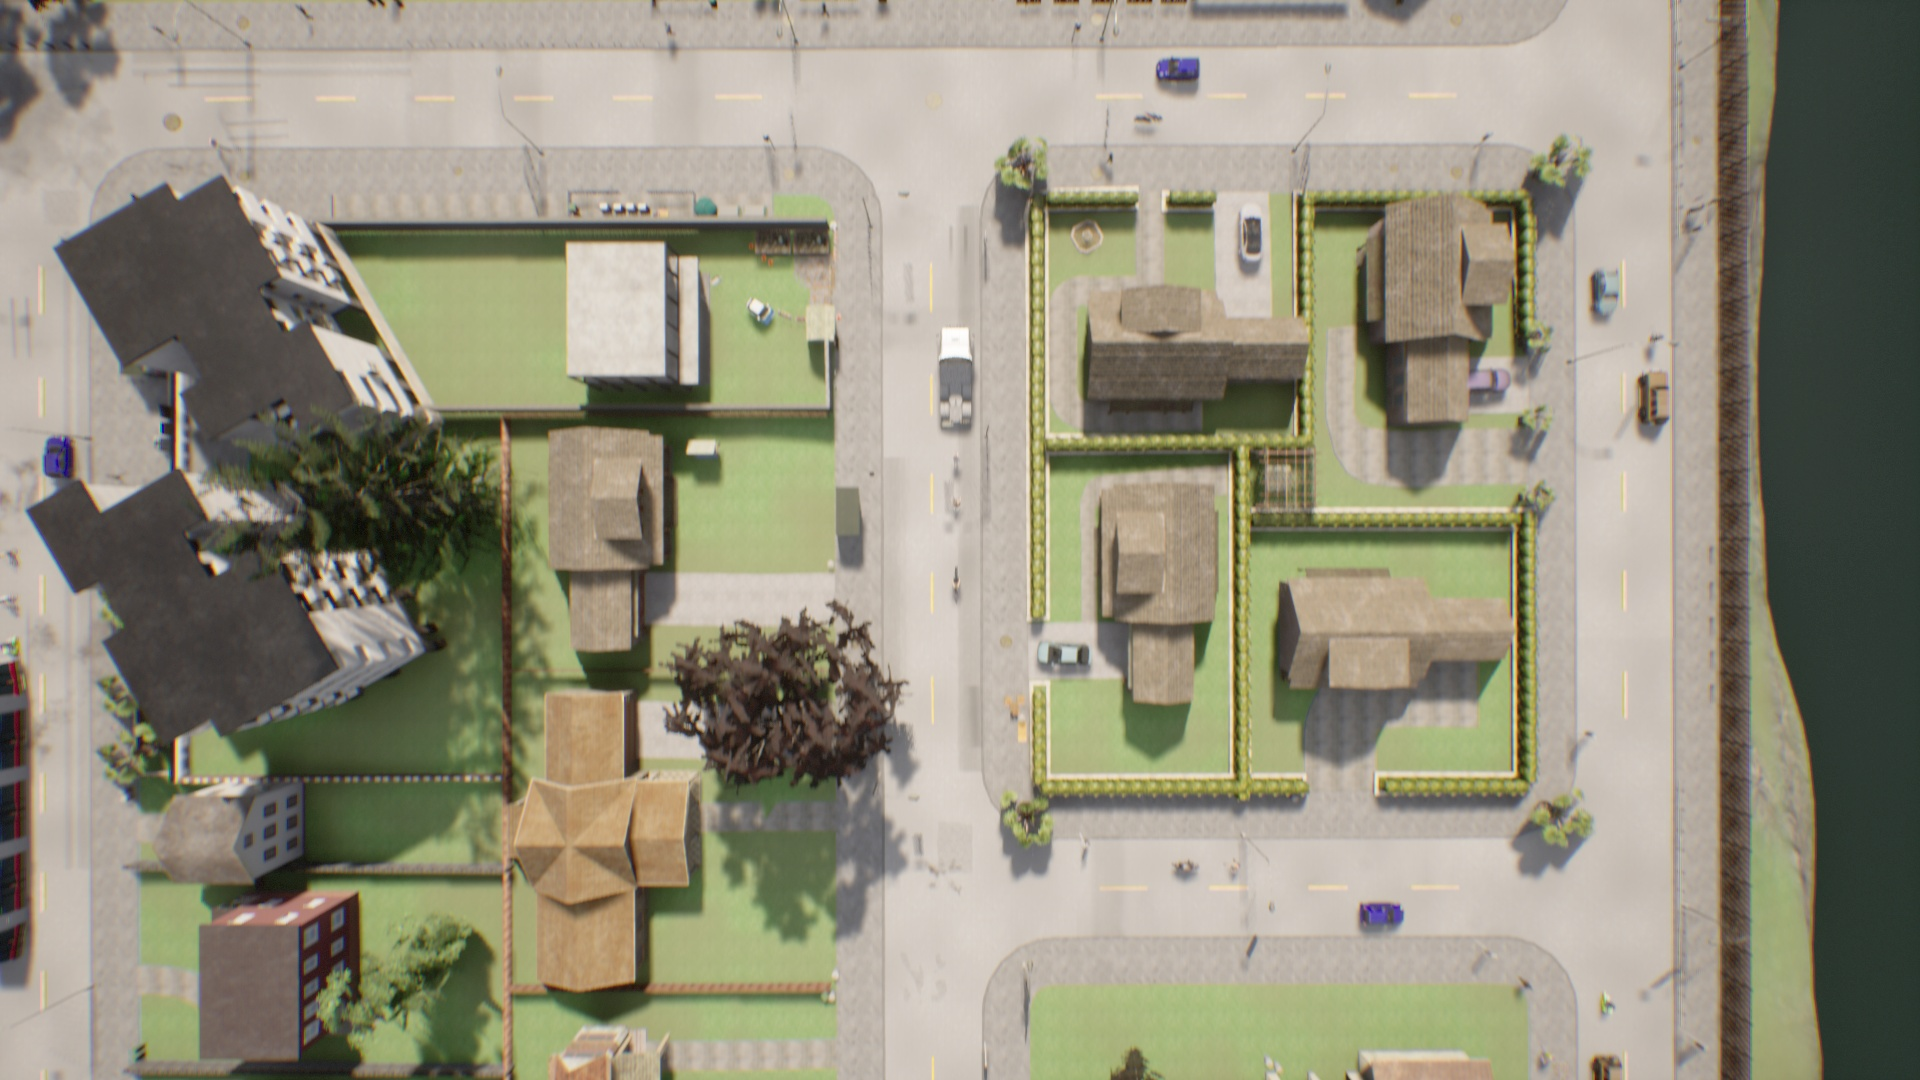Bus: (0, 646, 29, 964)
Car: (1036, 637, 1098, 671), (1643, 368, 1673, 431), (1469, 363, 1518, 396), (1357, 902, 1407, 931), (42, 435, 74, 479), (1593, 269, 1621, 316), (1589, 1052, 1627, 1080), (1155, 59, 1204, 78)
Motorcycle: (1597, 989, 1615, 1021), (1174, 860, 1208, 873), (949, 489, 961, 518), (949, 451, 963, 475), (953, 570, 964, 597)
Truck: (939, 320, 982, 436)
